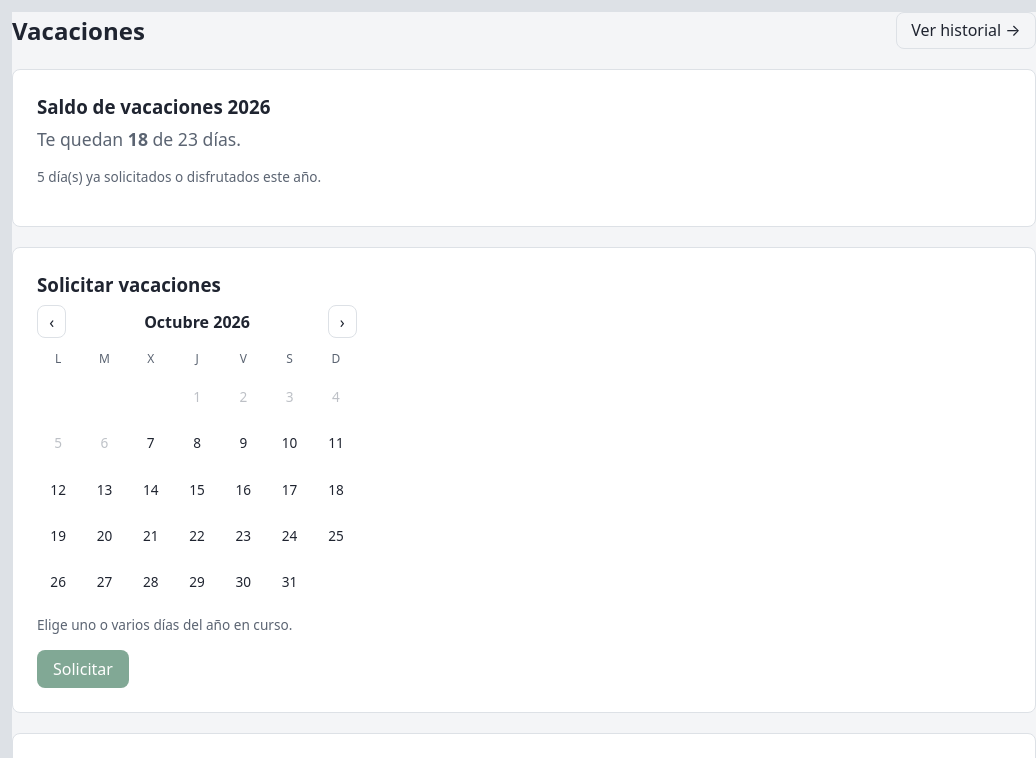
Test: WorkerVacations › deseleccionar un día ya elegido lo quita de la lista
The width and height of the screenshot is (1036, 758).
What coordinates should you click on to do the following:
click the button "7"
I would click on:
 (151, 443)
Its box is [130,422,172,464].
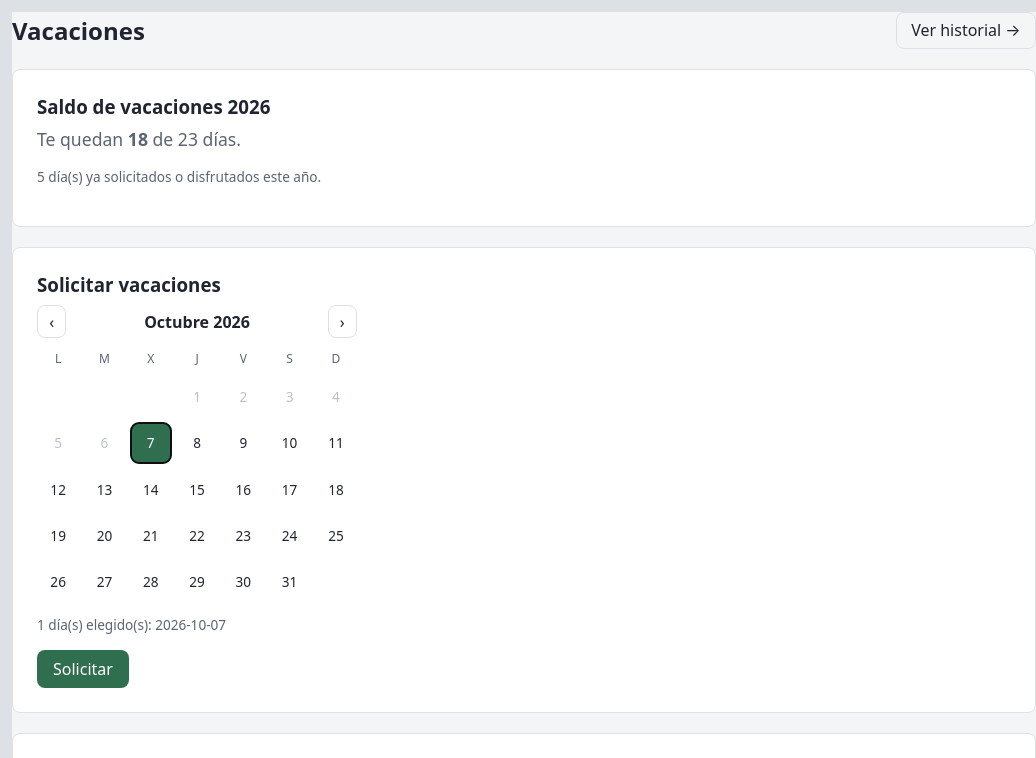
Now the text "1 día(s) elegido(s): 2026-10-07" is shown, box [37,615,226,634]
What coordinates should you click on to do the following:
click the button "7"
I would click on:
 (151, 443)
Its box is [130,422,172,464].
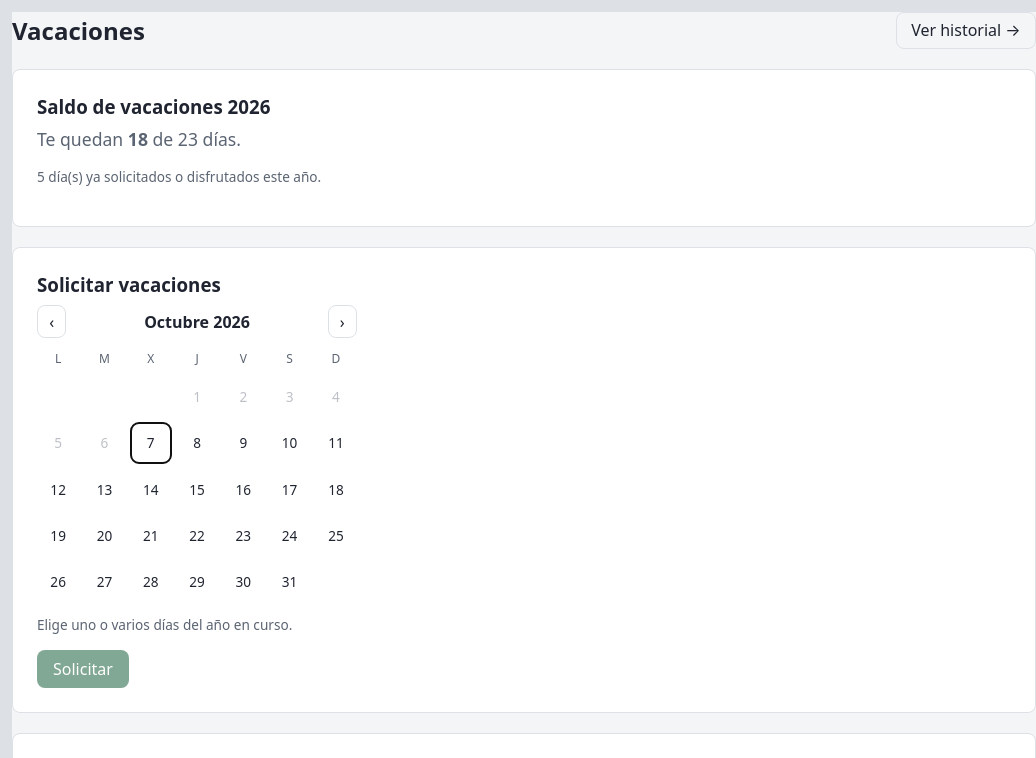
Now the text "Elige uno o varios días del año en curso." is shown, box [37,615,292,634]
